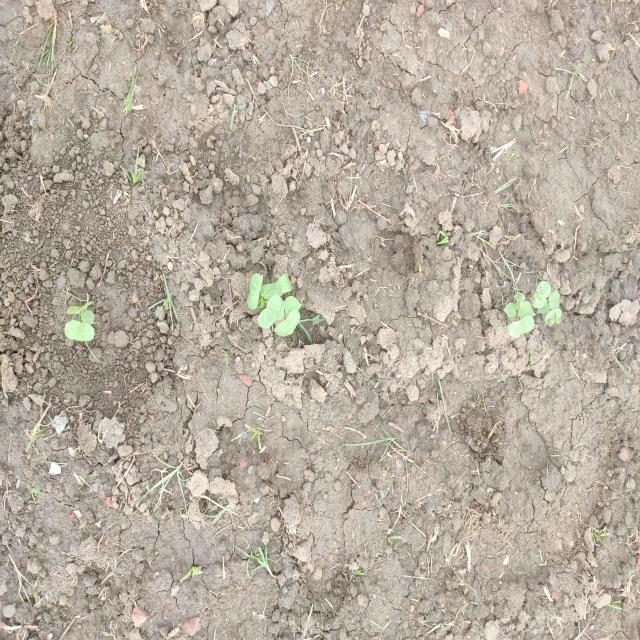seedling_s4: (258, 295, 282, 328), (274, 308, 300, 336), (64, 320, 95, 342), (507, 316, 535, 337), (531, 281, 551, 309), (247, 273, 262, 310), (260, 281, 283, 300), (66, 301, 93, 314), (285, 296, 302, 315), (518, 301, 535, 319), (277, 274, 292, 294), (545, 308, 562, 325), (549, 291, 561, 310), (81, 310, 95, 325), (514, 293, 525, 311), (503, 303, 516, 317), (538, 299, 550, 314), (256, 294, 264, 310)
